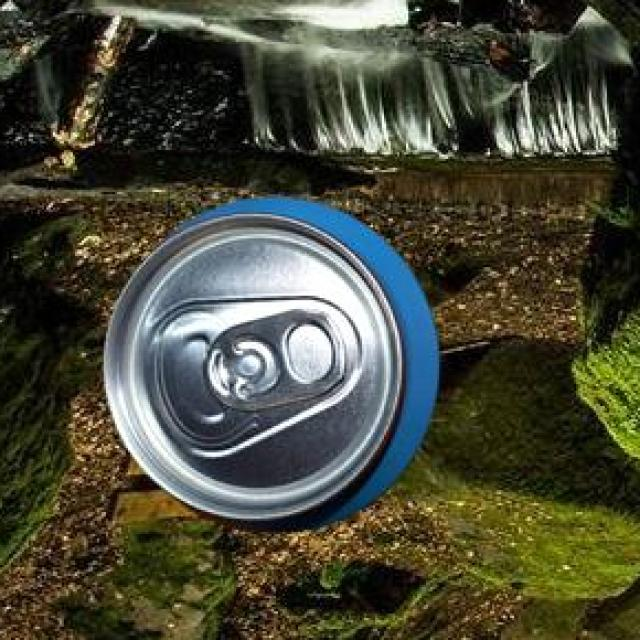logam: (100, 202, 434, 535)
